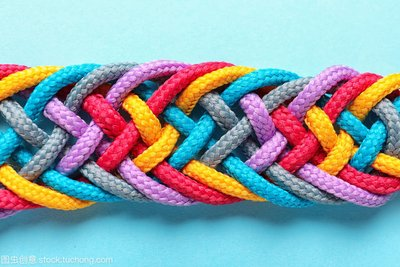9/可回收垃圾/绳子: (1, 59, 400, 220)
